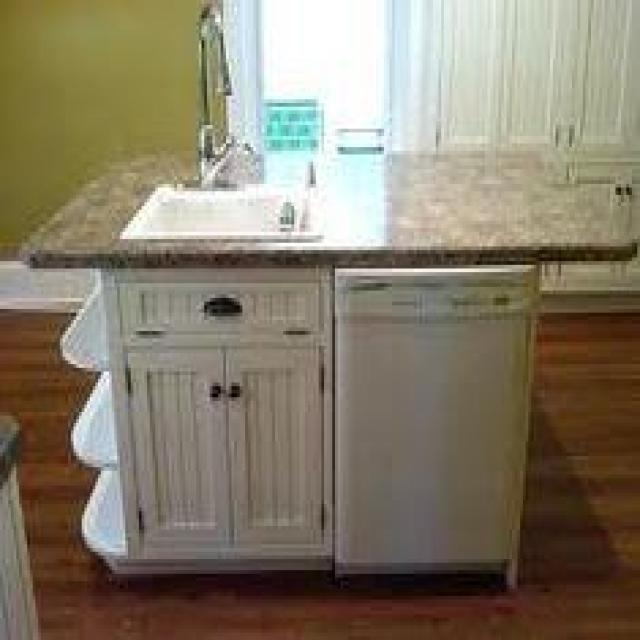dishwasher: (330, 256, 536, 590)
